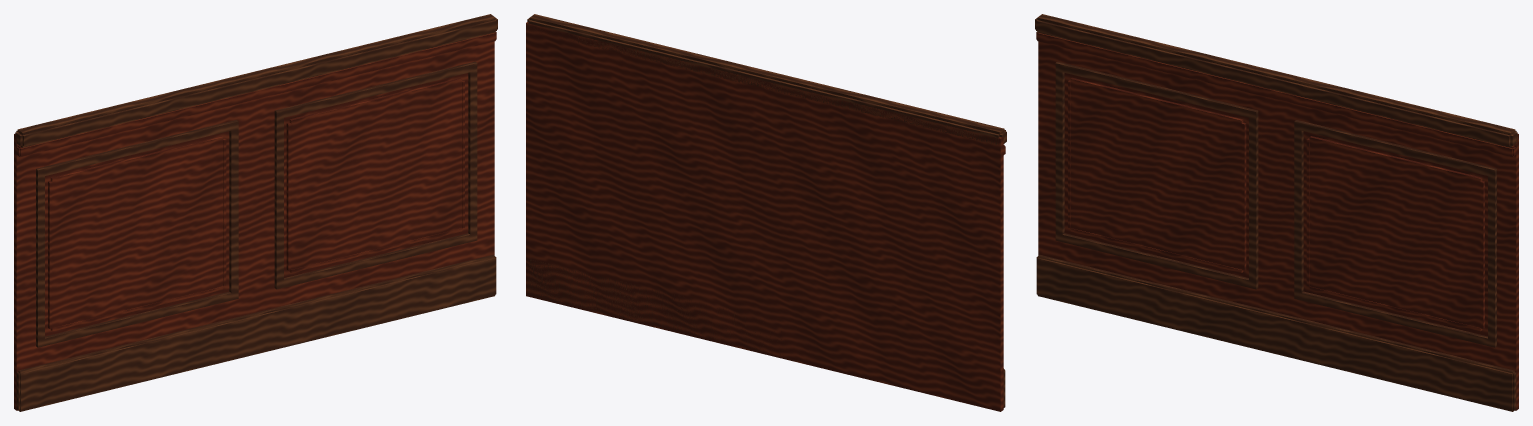
File: Zocalo_Modulo_2m.fbx
The picture shows the model from 3 angles, left to right: view 1: azimuth 30°, elevation 25°; view 2: azimuth 150°, elevation 25°; view 3: azimuth 330°, elevation 25°; orthographic projection.
Parts seen in each view (by area): view 1: Zocalo_Modulo_2m; view 2: Zocalo_Modulo_2m; view 3: Zocalo_Modulo_2m.
Boxes of the visible parts, x1,y1,x2,y2 form: Zocalo_Modulo_2m: (14,14,497,411); Zocalo_Modulo_2m: (526,14,1006,411); Zocalo_Modulo_2m: (1035,14,1518,411).
Bounding box in the file's own units: 2 × 1.12 × 0.055.
2 materials, 2 textured.
